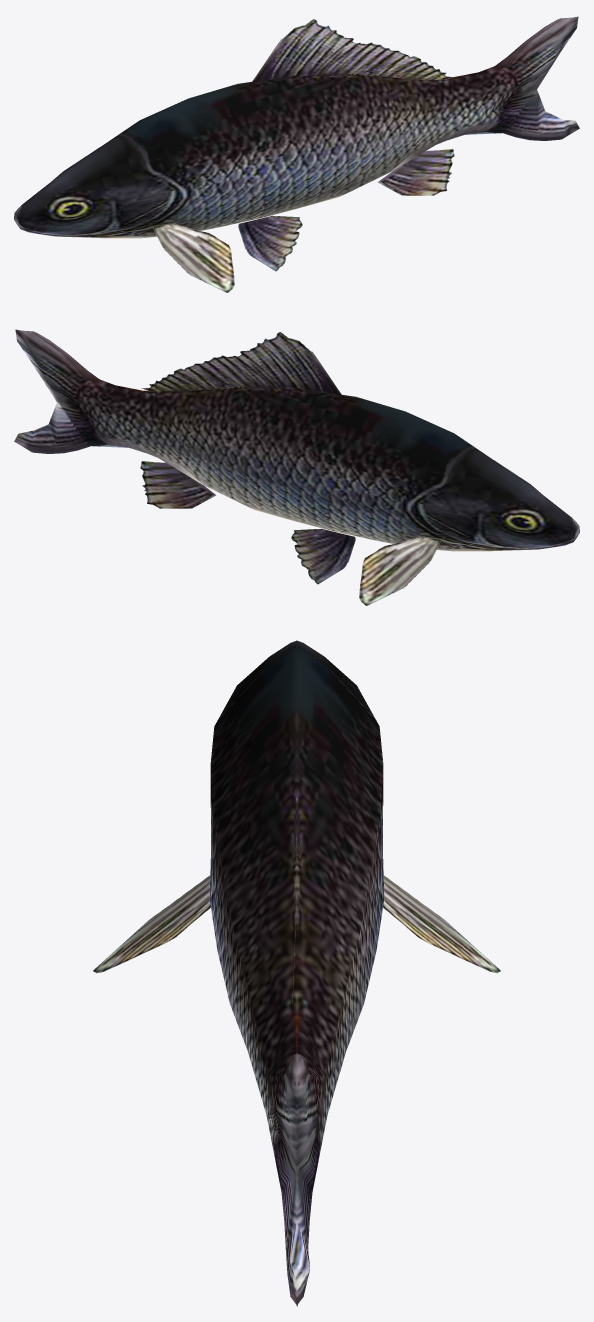
Rendered from qingyu.FBX.
3 renders of one model, top to bottom at view 1: azimuth 30°, elevation 25°; view 2: azimuth 150°, elevation 25°; view 3: azimuth 270°, elevation 25°, orthographic. The views are drawn at different scales.
Visible parts, largest first — view 1: qingyu; view 2: qingyu; view 3: qingyu.
Part boxes in pixels (bbox=[...]): qingyu: bbox=[14, 16, 579, 292]; qingyu: bbox=[14, 329, 579, 605]; qingyu: bbox=[93, 640, 500, 1306].
Size of the model in its own units: 40.35 by 17.63 by 13.66.
